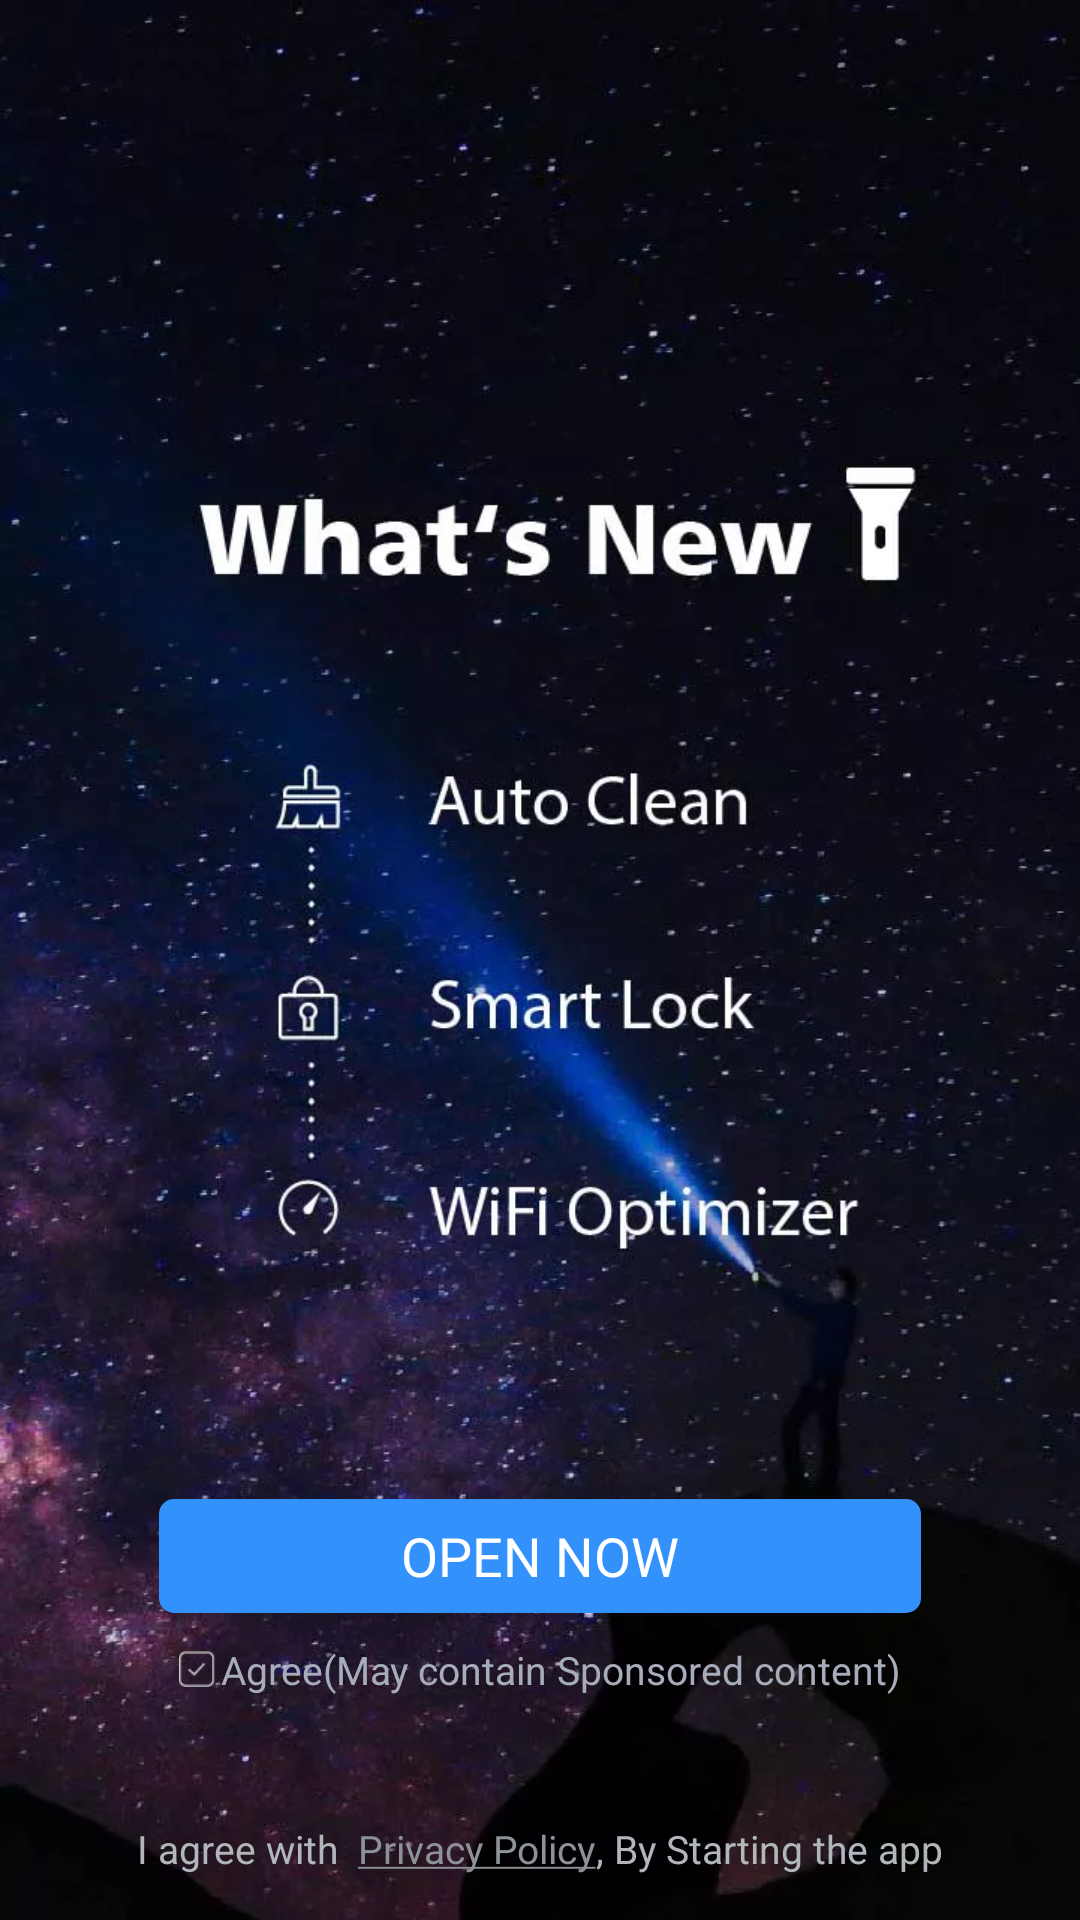

Named icons in this screenshot (1080*1920) and their centers, (x,y):
selecter check: (197,1669)
